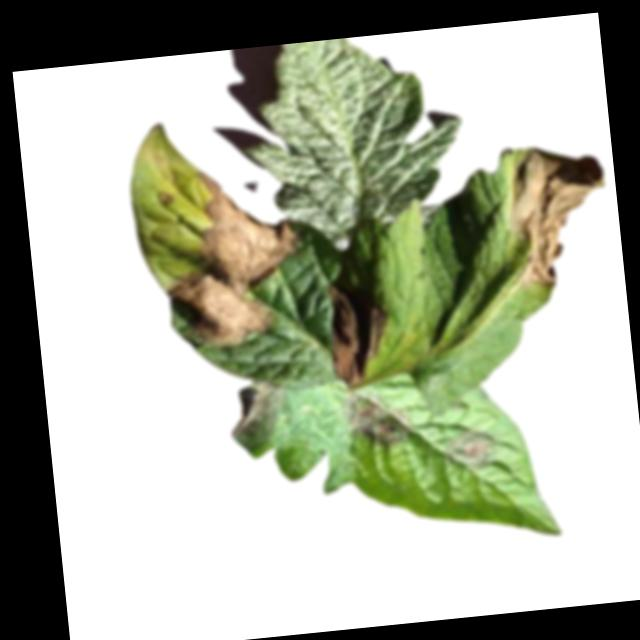Late_blight: (152, 162, 316, 355), (499, 138, 622, 290), (325, 278, 396, 391), (342, 384, 419, 451), (225, 371, 291, 447), (439, 425, 500, 474)
